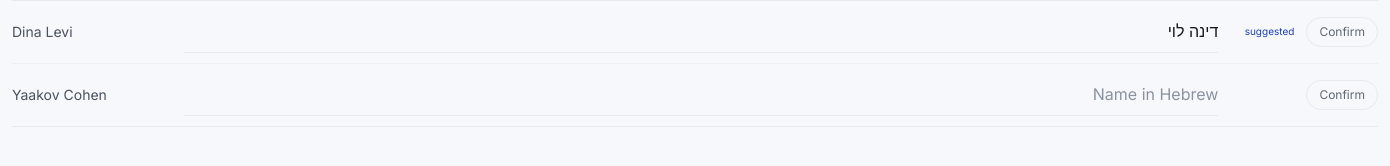
/admin/names — a refused save › tells the owner why, in en
Click the button "Confirm" next to "suggested" at [1342, 32], box [1306,17,1378,47]
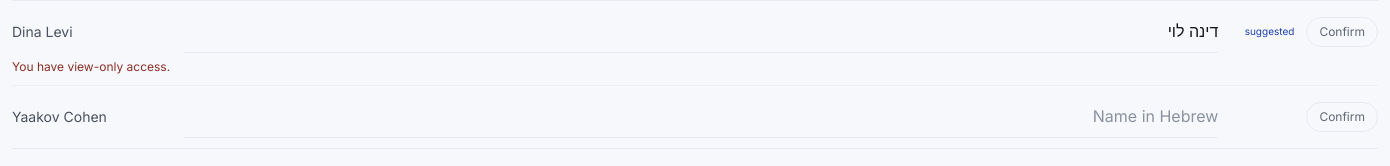
Now the text "You have view-only access." is shown, box [12,59,170,74]
